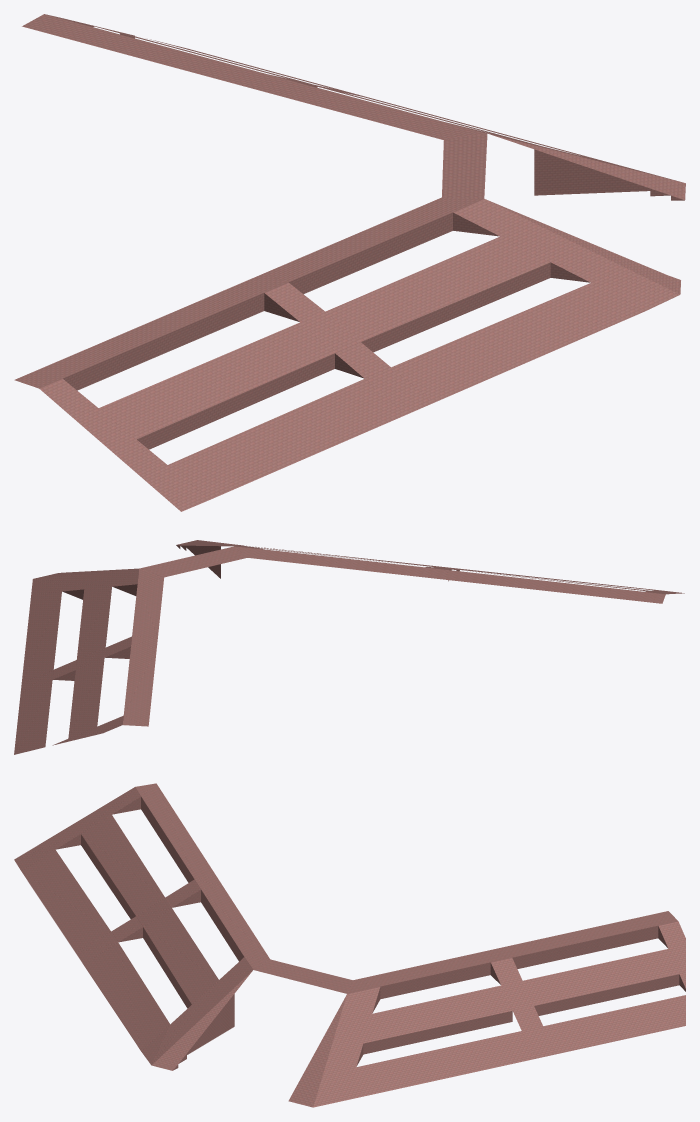
The model's file is kd_stage_1363c5_9_18_bounded.glb.
3 renders of one model, top to bottom at view 1: azimuth 30°, elevation 25°; view 2: azimuth 150°, elevation 25°; view 3: azimuth 270°, elevation 25°, orthographic. The views are drawn at different scales.
Parts seen in each view (by area): view 1: kd_stage_1363c5_9_18_bounded; view 2: kd_stage_1363c5_9_18_bounded; view 3: kd_stage_1363c5_9_18_bounded.
Boxes of the visible parts, x1=… form: kd_stage_1363c5_9_18_bounded: x1=14, y1=14, x2=685, y2=511; kd_stage_1363c5_9_18_bounded: x1=14, y1=540, x2=684, y2=754; kd_stage_1363c5_9_18_bounded: x1=14, y1=783, x2=685, y2=1107.
Bounding box in the file's own units: 44.5 × 4.07 × 46.61.
Materials: 1 (1 with a texture image).
